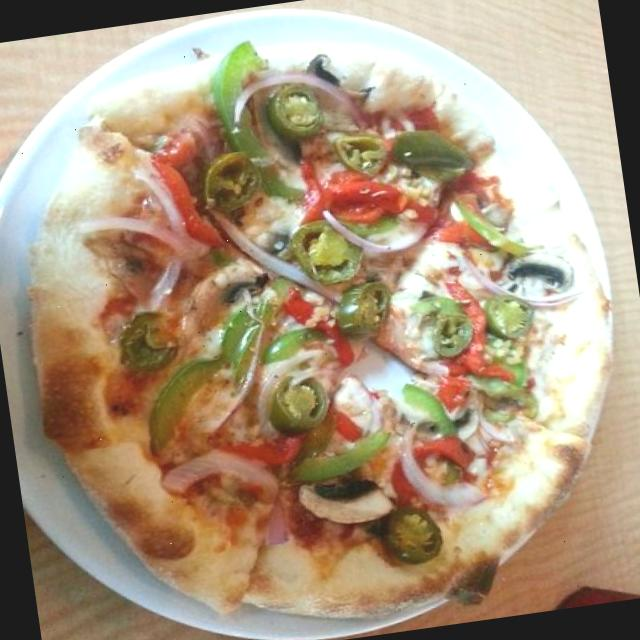Bell Pepper: (126, 296, 294, 458), (205, 34, 314, 210), (286, 424, 396, 489), (452, 183, 536, 268), (389, 117, 478, 180), (467, 362, 542, 428), (252, 320, 334, 376), (400, 373, 461, 445), (322, 203, 406, 250)
Olive: (289, 218, 369, 288), (110, 307, 188, 373), (194, 148, 267, 218), (260, 369, 332, 439), (377, 502, 446, 568), (260, 76, 326, 142), (332, 280, 396, 340), (330, 125, 393, 184), (482, 289, 540, 339), (424, 313, 478, 361)
mushrooms: (291, 471, 399, 536), (498, 242, 584, 299)
pizza: (32, 43, 609, 616)
